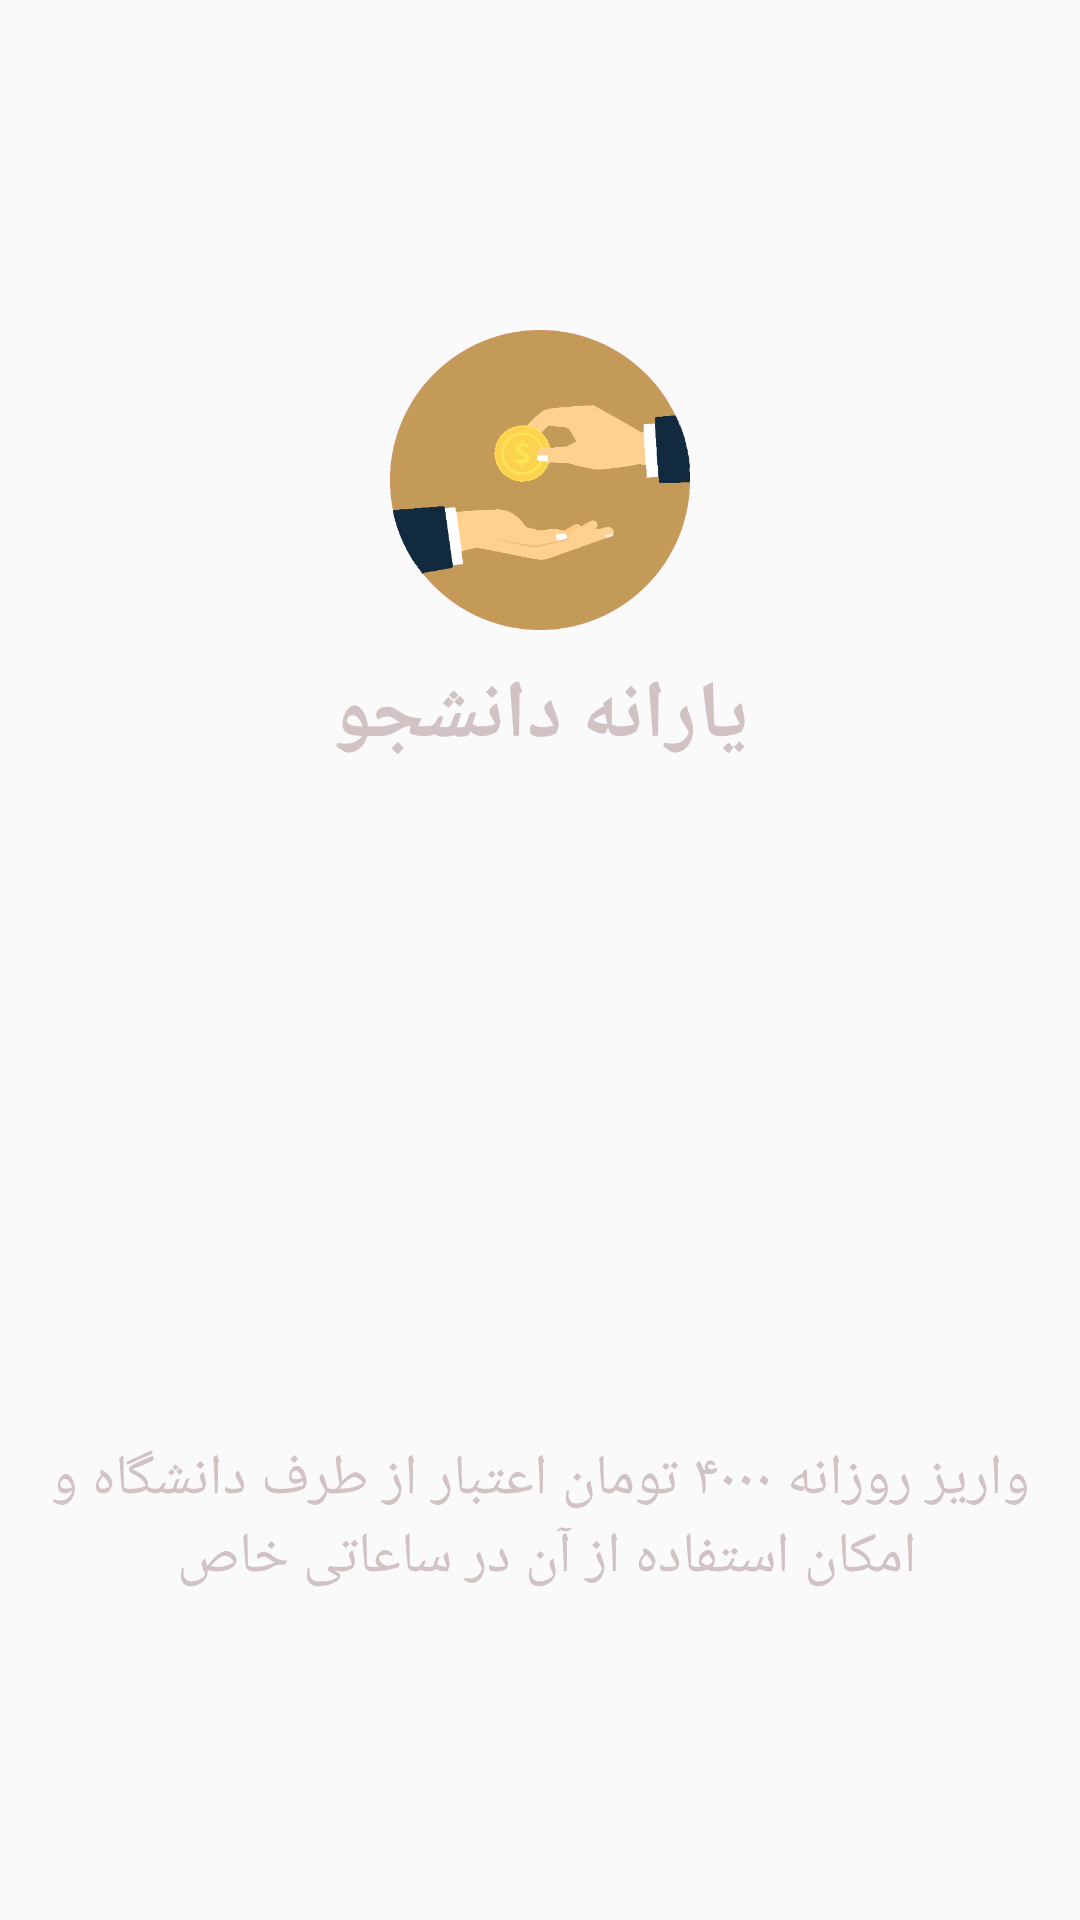

Screen size 1080*1920. Icon name, then its box in pixels as (x1, y1, x2, y2):
transaction: (390, 330, 690, 630)
